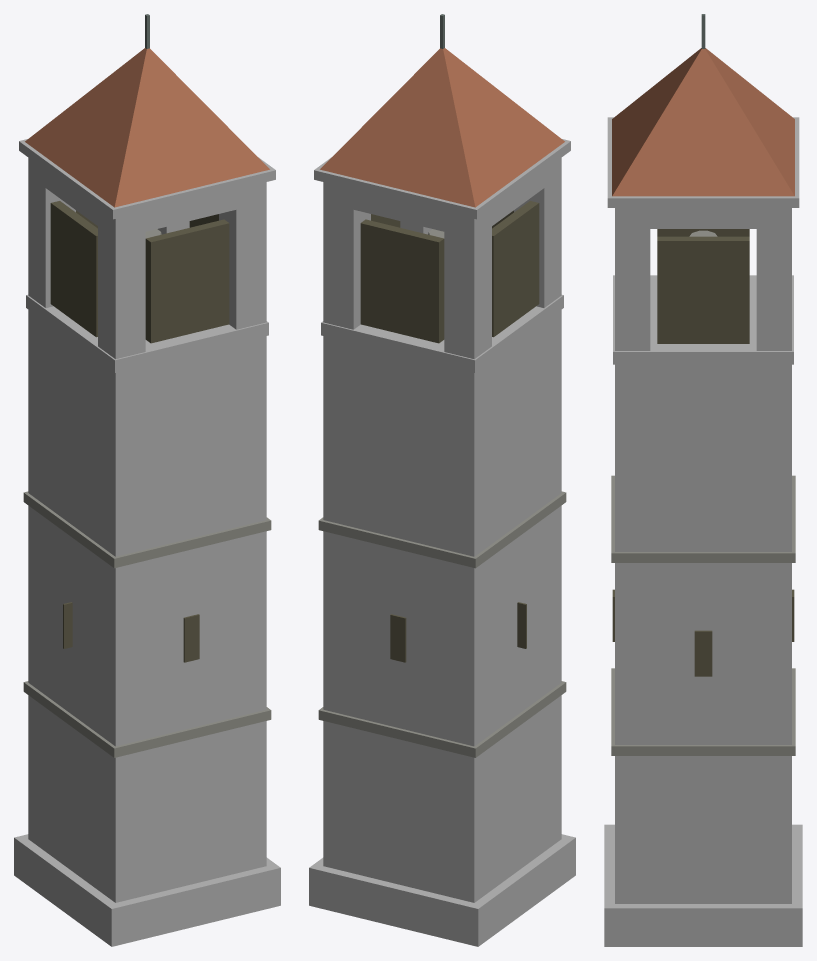
Rendered from SM_Campanario_v1_Piedra_LOD0.fbx.
The picture shows the model from 3 angles, left to right: view 1: azimuth 30°, elevation 25°; view 2: azimuth 150°, elevation 25°; view 3: azimuth 270°, elevation 25°; orthographic projection.
Parts seen in each view (by area): view 1: SM_pueblo_valenciano_v21_LOD0; view 2: SM_pueblo_valenciano_v21_LOD0; view 3: SM_pueblo_valenciano_v21_LOD0.
Boxes of the visible parts, left/top/right/bottom form: SM_pueblo_valenciano_v21_LOD0: left=14, top=14, right=280, bottom=946; SM_pueblo_valenciano_v21_LOD0: left=309, top=14, right=575, bottom=946; SM_pueblo_valenciano_v21_LOD0: left=604, top=14, right=802, bottom=946.
Size of the model in its own units: 5.6 by 27.7 by 5.6.
